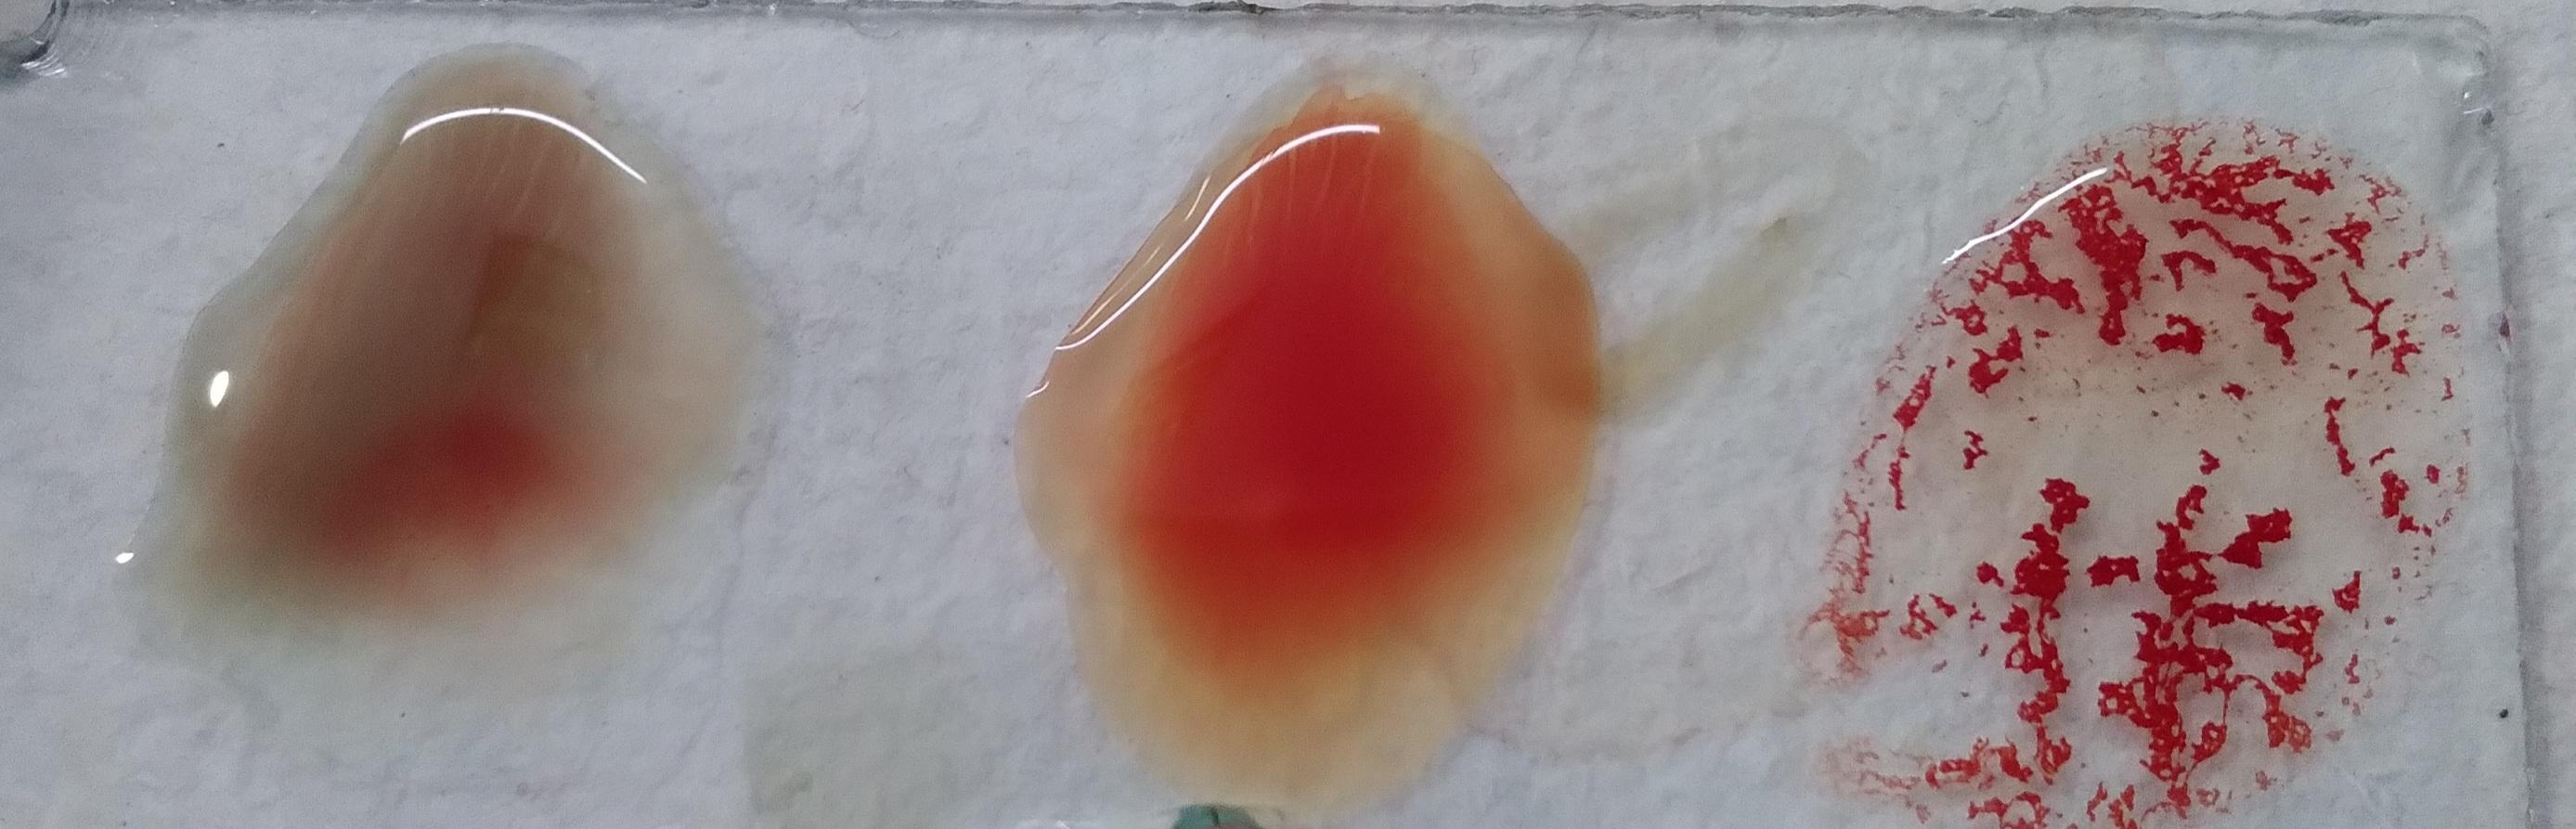D: (130, 0, 789, 719)
